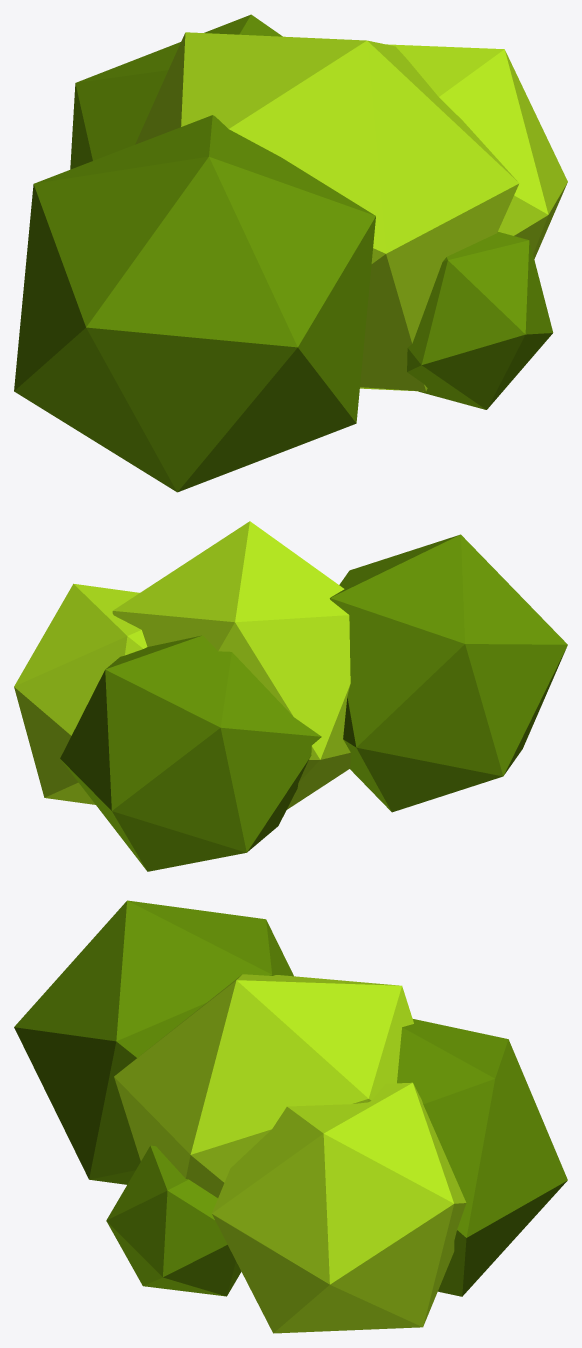
File: bush1.fbx
The picture shows the model from 3 angles, top to bottom: view 1: azimuth 30°, elevation 25°; view 2: azimuth 150°, elevation 25°; view 3: azimuth 270°, elevation 25°; orthographic projection. The views are drawn at different scales.
Parts seen in each view (by area): view 1: Bush1; view 2: Bush1; view 3: Bush1.
Part boxes in pixels (box(x1,y1,x2,y2)): Bush1: box(14, 14, 567, 492); Bush1: box(14, 521, 567, 871); Bush1: box(14, 900, 567, 1333).
Bounding box in the file's own units: 1.12 × 0.665 × 1.06.
